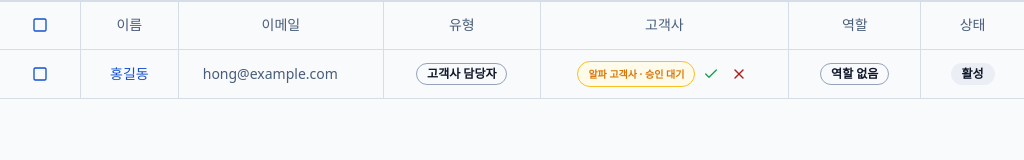
Scenario: UserTable — PENDING 소속 승인/거절 › 처리 중에는 승인·거절 버튼이 함께 잠긴다
Click the button named "알파 고객사 소속 승인". click: x=712, y=74
box: [700,62,724,86]
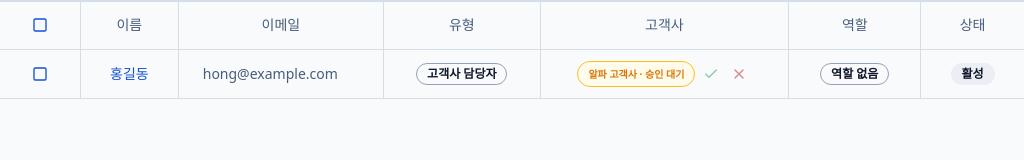
Result: the button named "알파 고객사 소속 거절" is disabled at [728,62,752,86]
